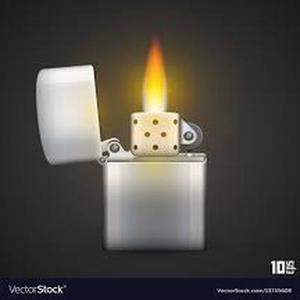fire: (144, 43, 174, 110)
